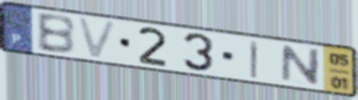2: (137, 27, 169, 69)
3: (180, 31, 220, 74)
B: (34, 12, 77, 56)
I: (249, 39, 262, 81)
N: (279, 43, 323, 87)
V: (74, 15, 121, 61)
